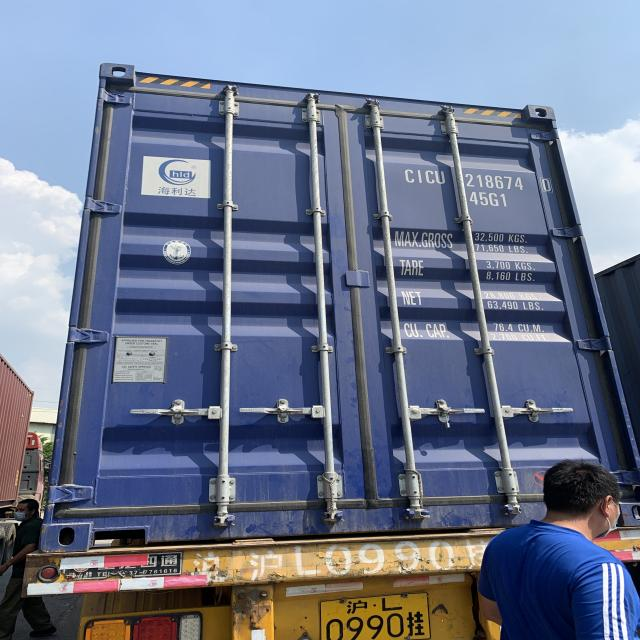seal: (442, 408, 452, 430)
